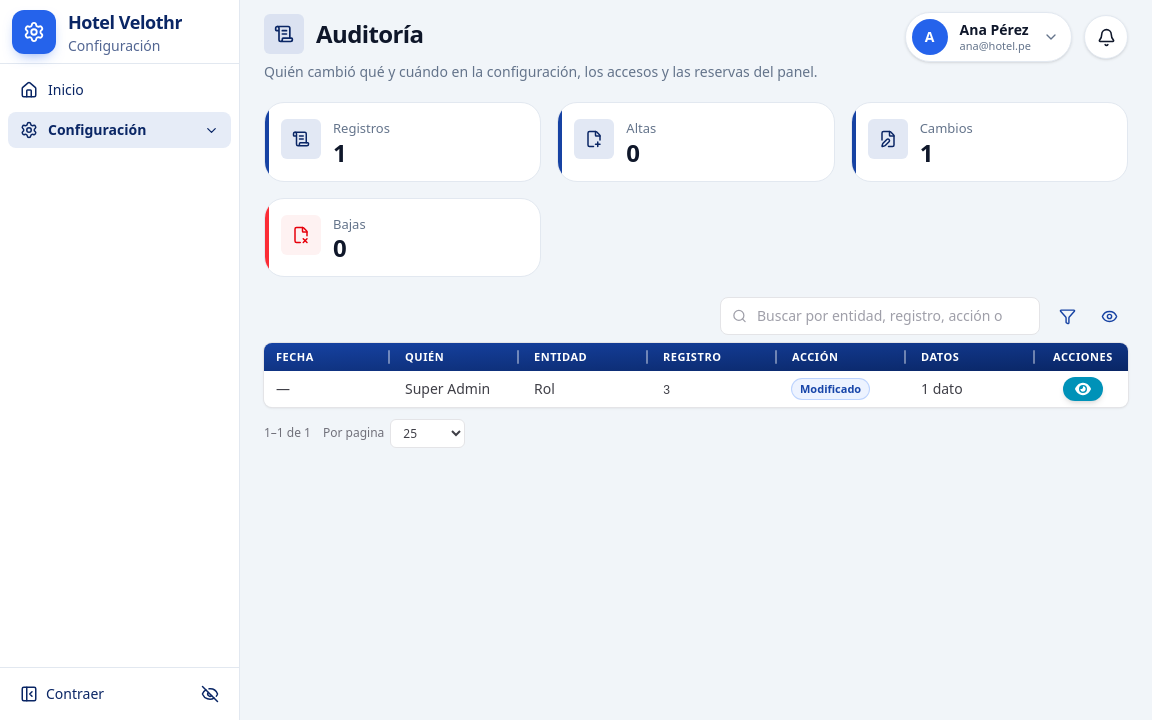
Scenario: Auditoría › la tabla pide al servidor (modo servidor) y muestra los cambios de un registro
Expected: the text "Super Admin" is shown, [393, 371, 522, 407]
Click the button named "Ver cambios del registro 3" at [1083, 389], box [1063, 377, 1103, 401]
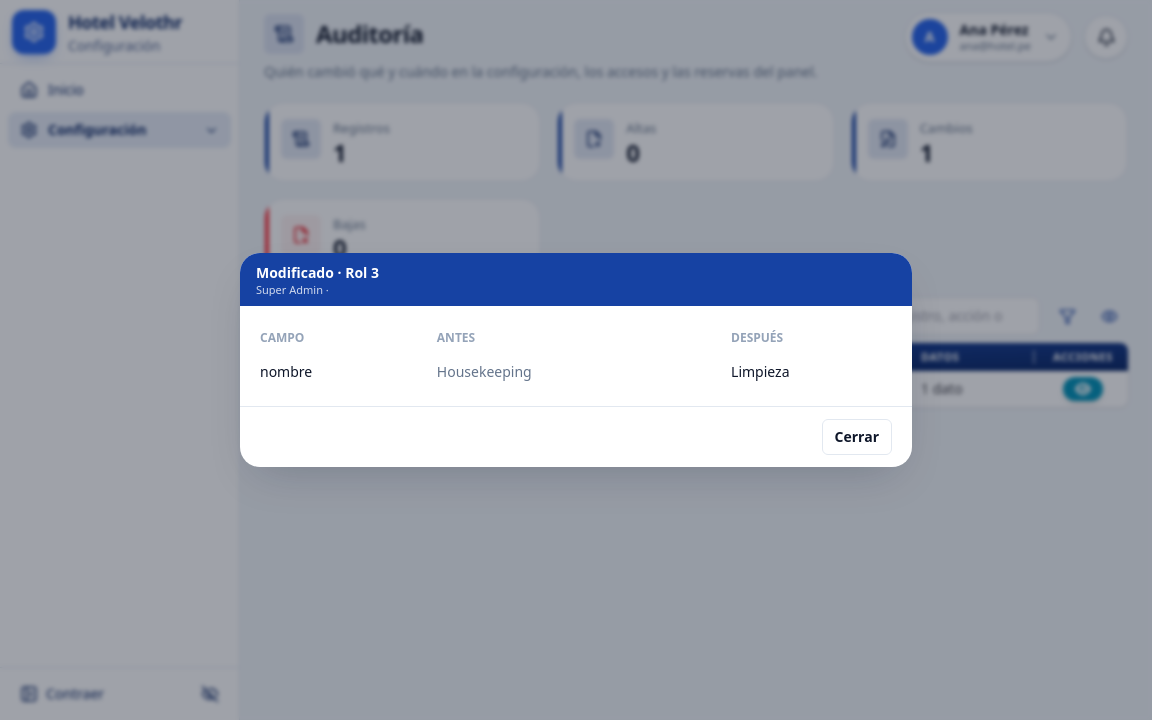
Now the text "Housekeeping" is shown, box [437, 354, 731, 390]
Now the text "Limpieza" is shown, box [731, 354, 892, 390]
